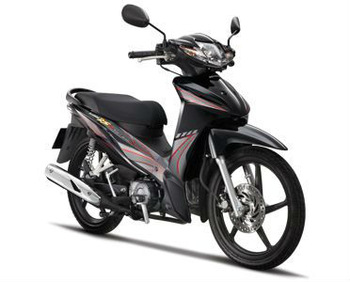motorcycle: (43, 2, 306, 273)
